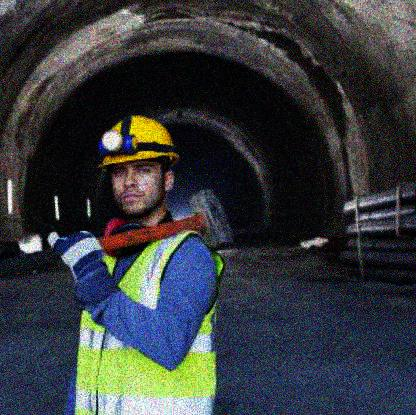helmet: (95, 114, 183, 217)
